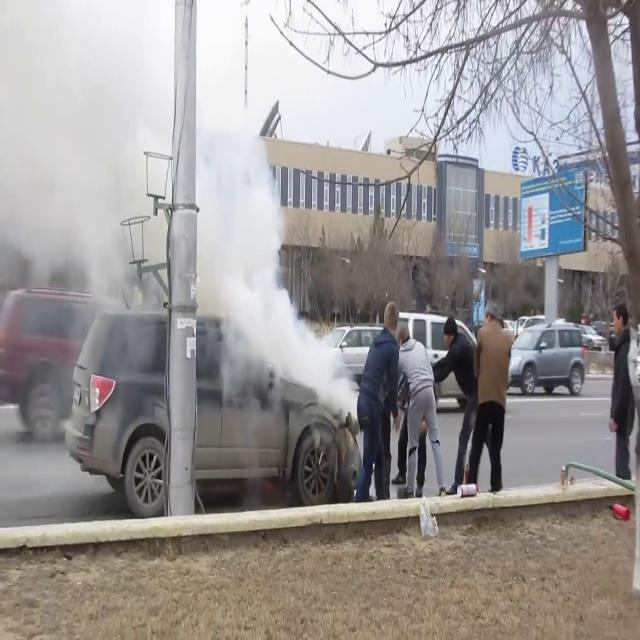Smoke: (197, 40, 347, 430)
